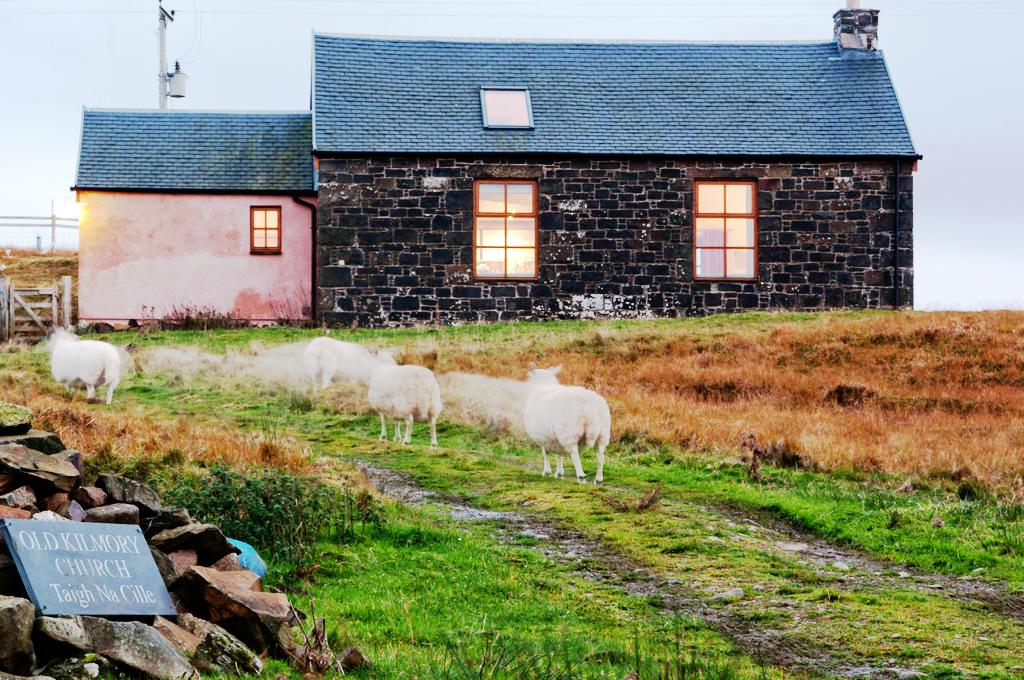Sheep: (522, 366, 610, 482), (368, 354, 440, 447), (52, 331, 120, 405), (304, 337, 371, 393)
